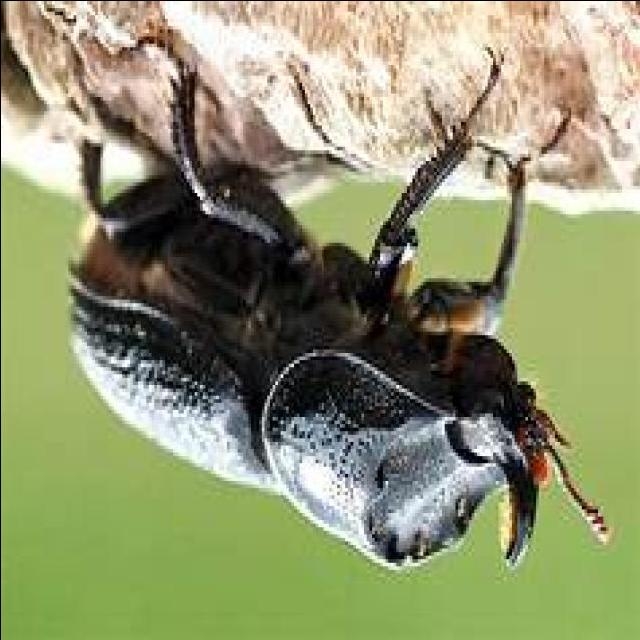Rhino-beetle: (52, 80, 624, 582)
